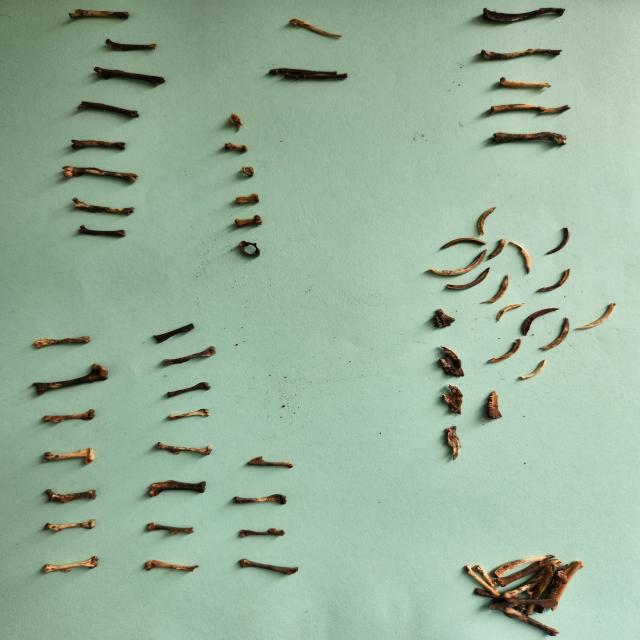fossil: (29, 360, 113, 399), (90, 63, 175, 94), (58, 162, 145, 190), (62, 193, 148, 220), (470, 586, 558, 612), (495, 602, 561, 636), (478, 4, 569, 28), (547, 559, 587, 611), (495, 557, 564, 587), (522, 561, 558, 617), (421, 248, 490, 277), (73, 97, 147, 124), (500, 571, 566, 601), (474, 43, 566, 64), (491, 552, 559, 580), (487, 128, 573, 148), (37, 553, 104, 578), (482, 100, 575, 118), (142, 476, 211, 500), (159, 344, 222, 370), (66, 133, 137, 156), (430, 342, 471, 380), (236, 556, 306, 578), (38, 445, 102, 469), (65, 5, 141, 25), (102, 34, 164, 58), (151, 439, 216, 461), (286, 16, 345, 40), (462, 564, 502, 599), (495, 74, 561, 95), (574, 300, 617, 332), (148, 319, 198, 346), (38, 407, 102, 428), (140, 556, 201, 578), (537, 316, 571, 354), (38, 516, 102, 536), (40, 487, 100, 508), (437, 382, 472, 418), (517, 307, 559, 337), (476, 272, 513, 306), (70, 222, 136, 241), (444, 266, 492, 292), (228, 492, 293, 511), (532, 265, 574, 294), (29, 333, 96, 351), (440, 423, 470, 462), (484, 336, 522, 366), (241, 453, 298, 472), (165, 380, 215, 401), (481, 388, 511, 423), (472, 204, 503, 237), (427, 306, 463, 334), (142, 520, 196, 538), (235, 526, 292, 542), (542, 226, 572, 256), (508, 240, 533, 276), (468, 562, 499, 590), (220, 110, 256, 134), (165, 406, 213, 424), (492, 300, 528, 324), (516, 358, 552, 382), (438, 234, 488, 251), (234, 237, 266, 262), (268, 66, 345, 76), (231, 212, 267, 232), (219, 140, 254, 158), (233, 191, 267, 209), (283, 72, 351, 81), (485, 237, 508, 261), (238, 163, 261, 181)
